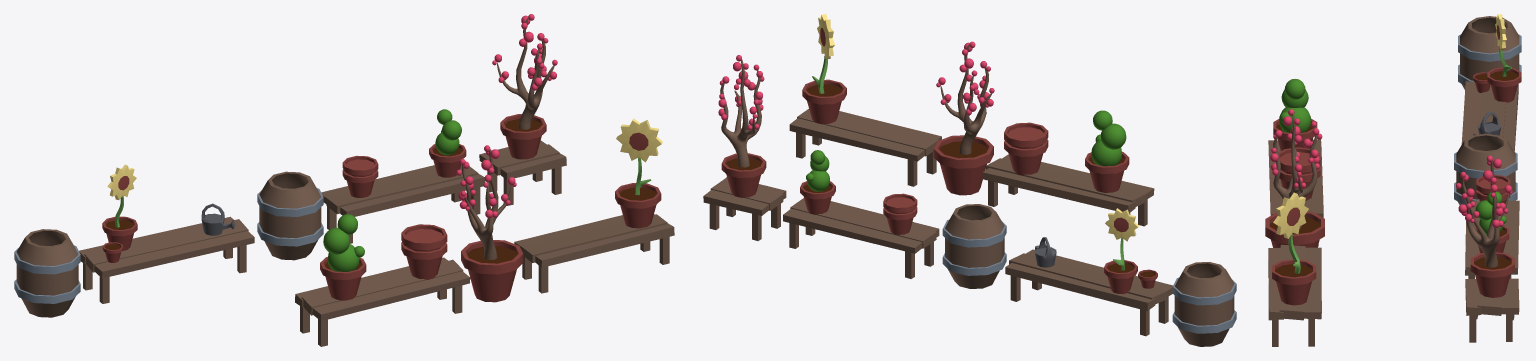
The model's file is GewächshausAssets.fbx.
The picture shows the model from 3 angles, left to right: view 1: azimuth 30°, elevation 25°; view 2: azimuth 150°, elevation 25°; view 3: azimuth 270°, elevation 25°; orthographic projection. The views are drawn at different scales.
Parts seen in each view (by area): view 1: Tische, Blumentopf, BeerenTopf1, Fass, Fass.001, BeerenTopf2, Kaktustopf, Kaktustopf2, Sonnenblume.008, Sonnenblume, Blumentopf.002, Gießkanne; view 2: Tische, Blumentopf, BeerenTopf1, Fass.001, Fass, BeerenTopf2, Kaktustopf, Kaktustopf2, Sonnenblume, Blumentopf.002, Sonnenblume.008, Gießkanne; view 3: Tische, BeerenTopf2, Blumentopf, BeerenTopf1, Fass.001, Fass, Kaktustopf, Sonnenblume.008, Blumentopf.002, Kaktustopf2, Sonnenblume, Gießkanne.
Part boxes in pixels (x1,y1,x2,y2): Tische: [79, 140, 674, 346]; Blumentopf: [102, 155, 661, 279]; BeerenTopf1: [456, 145, 523, 302]; Fass: [257, 171, 323, 260]; Fass.001: [14, 229, 80, 317]; BeerenTopf2: [492, 14, 557, 159]; Kaktustopf: [320, 214, 366, 300]; Kaktustopf2: [429, 109, 466, 177]; Sonnenblume.008: [616, 118, 662, 195]; Sonnenblume: [107, 164, 136, 227]; Blumentopf.002: [102, 216, 137, 251]; Gießkanne: [201, 203, 235, 235]; Tische: [703, 109, 1172, 336]; Blumentopf: [802, 79, 1157, 288]; BeerenTopf1: [933, 41, 994, 195]; Fass.001: [1172, 262, 1236, 346]; Fass: [942, 204, 1006, 288]; BeerenTopf2: [718, 55, 766, 197]; Kaktustopf: [1085, 110, 1129, 192]; Kaktustopf2: [800, 150, 835, 214]; Sonnenblume: [1105, 208, 1138, 270]; Blumentopf.002: [1104, 260, 1137, 293]; Sonnenblume.008: [812, 14, 834, 93]; Gießkanne: [1034, 237, 1056, 267]; Tische: [1268, 81, 1519, 346]; BeerenTopf2: [1456, 155, 1514, 297]; Blumentopf: [1272, 72, 1510, 305]; BeerenTopf1: [1265, 109, 1324, 247]; Fass.001: [1458, 16, 1521, 89]; Fass: [1454, 133, 1517, 205]; Kaktustopf: [1273, 79, 1317, 150]; Sonnenblume.008: [1273, 192, 1308, 273]; Blumentopf.002: [1487, 67, 1521, 102]; Kaktustopf2: [1475, 191, 1509, 253]; Sonnenblume: [1495, 14, 1511, 76]; Gießkanne: [1473, 111, 1501, 135].
Bounding box in the file's own units: 2572 × 795 × 1044.
